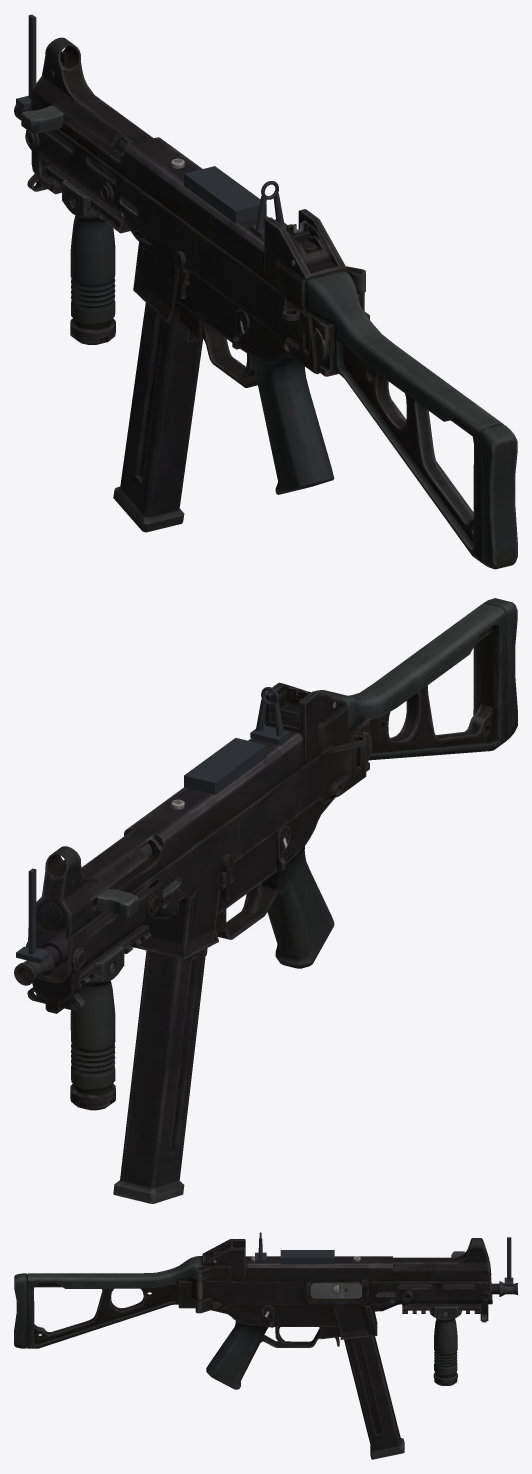
3 renders of one model, top to bottom at view 1: azimuth 30°, elevation 25°; view 2: azimuth 150°, elevation 25°; view 3: azimuth 270°, elevation 25°, orthographic. The views are drawn at different scales.
Visible parts, largest first — view 1: body, mag, charge, rearsight; view 2: body, mag, charge, rearsight; view 3: body, mag, boltCarrier.
Boxes of the visible parts, box(x1,y1,x2,y2) form: body: box(14, 14, 517, 569); mag: box(113, 302, 202, 532); charge: box(21, 105, 127, 154); rearsight: box(250, 181, 287, 238); body: box(14, 598, 517, 1110); mag: box(113, 949, 206, 1203); charge: box(92, 843, 152, 917); rearsight: box(250, 687, 289, 744); body: box(14, 1237, 517, 1389); mag: box(344, 1336, 404, 1459); boltCarrier: box(311, 1283, 361, 1298).
Bounding box in the file's own units: 0.0757 × 0.3401 × 0.7.
Materials: 2 (1 with a texture image).
